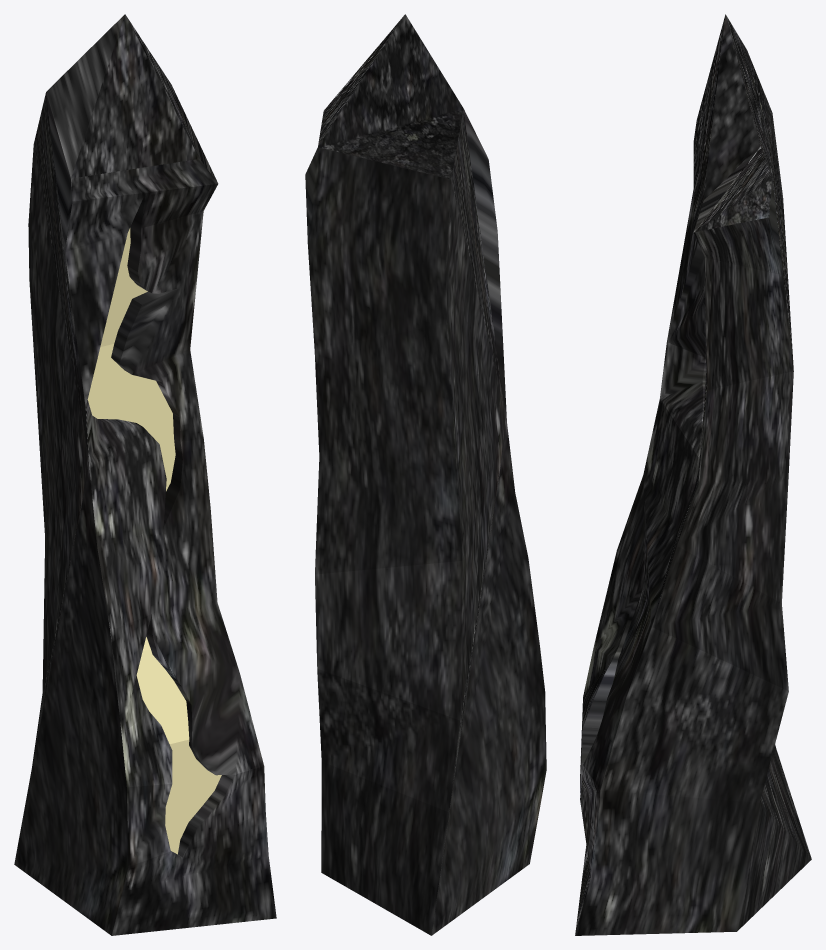
File: Outer_Monolith_02.fbx
3 views of the same model, side by side, from view 1: azimuth 30°, elevation 25°; view 2: azimuth 150°, elevation 25°; view 3: azimuth 270°, elevation 25° (orthographic).
Parts seen in each view (by area): view 1: Monolith_02; view 2: Monolith_02; view 3: Monolith_02.
Part boxes in pixels (x1=…): Monolith_02: x1=14, y1=14, x2=276, y2=935; Monolith_02: x1=305, y1=14, x2=546, y2=935; Monolith_02: x1=575, y1=14, x2=811, y2=935.
Bounding box in the file's own units: 0.6281 × 3.4 × 0.8266.
